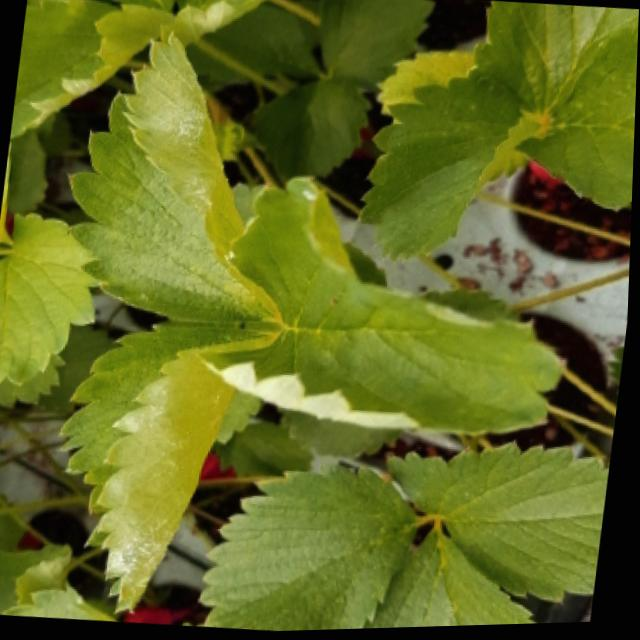Powdery Mildew Leaf: (198, 175, 567, 438), (59, 319, 280, 616), (66, 30, 280, 327), (514, 18, 639, 217), (227, 0, 273, 23)
